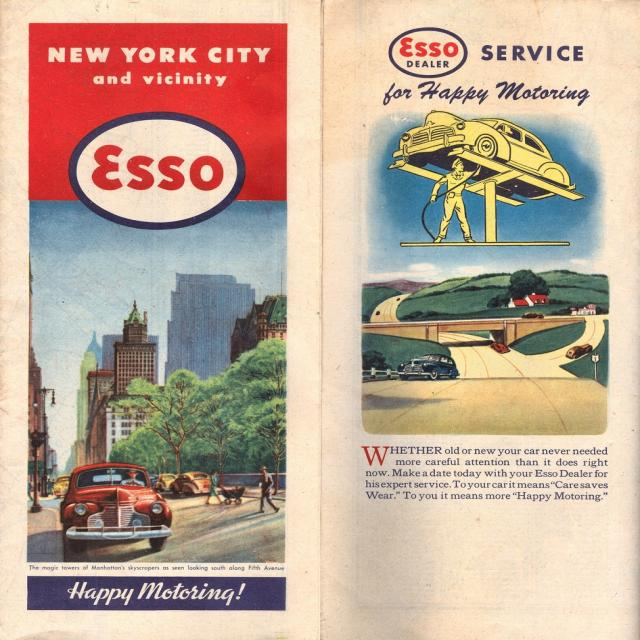esso: (65, 108, 248, 234), (390, 27, 469, 77)
